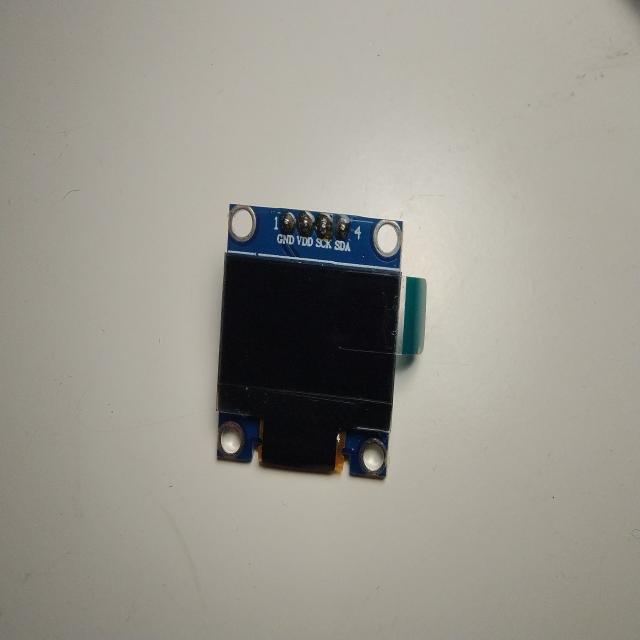oled: (212, 193, 428, 494)
